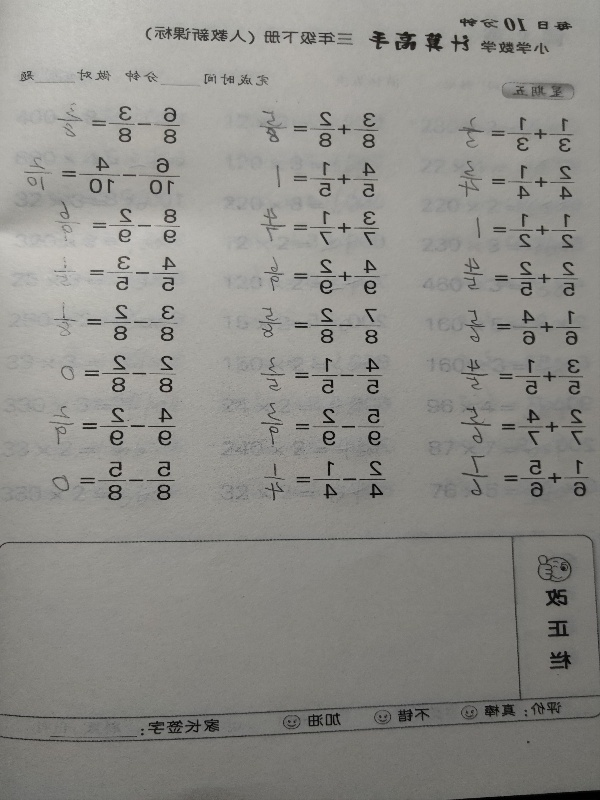equation: (19, 153, 179, 198), (450, 452, 591, 503), (258, 455, 387, 508), (249, 103, 384, 152), (452, 403, 586, 451), (256, 400, 385, 449), (43, 458, 176, 505), (50, 200, 182, 247), (453, 353, 586, 399), (45, 403, 177, 449), (250, 303, 382, 348), (47, 252, 183, 295), (53, 101, 185, 145), (258, 252, 379, 300), (48, 299, 180, 343), (449, 160, 578, 205), (453, 109, 577, 155), (459, 306, 583, 351), (52, 351, 178, 395), (452, 258, 583, 300), (256, 203, 381, 247), (257, 355, 384, 396), (462, 211, 580, 253), (269, 157, 384, 199)
